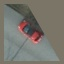car: (18, 20, 37, 46)
